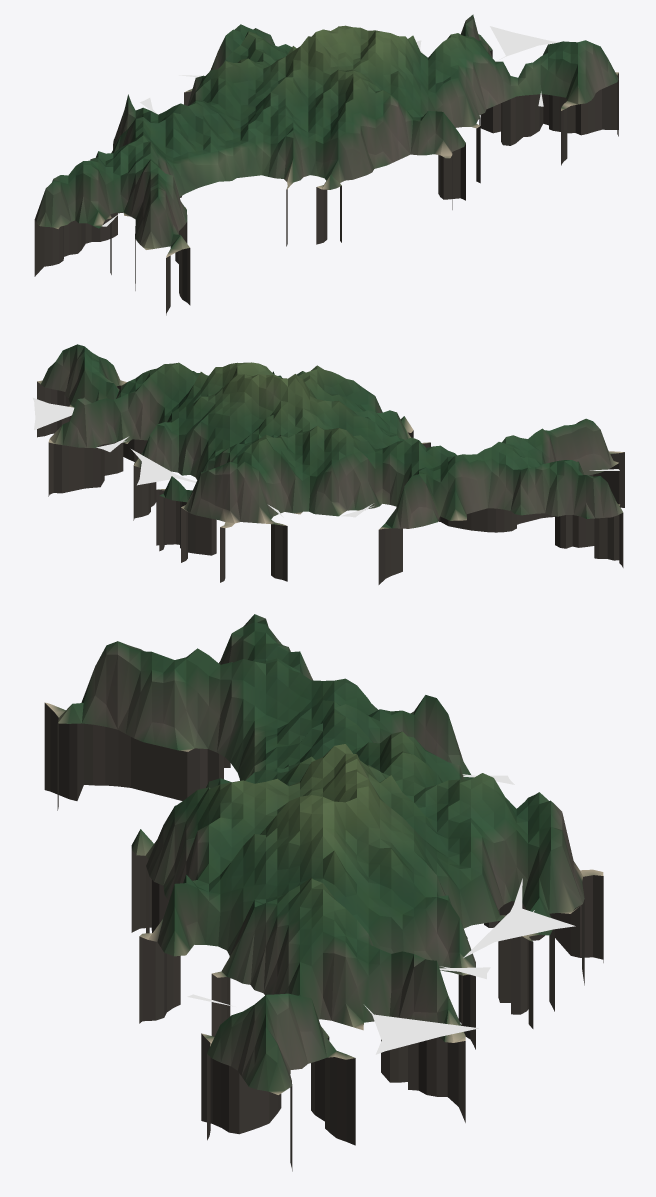
File: landmark-ilha-grande-balanced.v1.glb
3 views of the same model, one above another, from view 1: azimuth 30°, elevation 25°; view 2: azimuth 150°, elevation 25°; view 3: azimuth 270°, elevation 25° (orthographic). The views are drawn at different scales.
Parts seen in each view (by area): view 1: island, surf; view 2: island, surf; view 3: island, surf.
Boxes of the visible parts, x1,y1,x2,y2 form: island: [34, 14, 618, 315]; surf: [102, 26, 558, 226]; island: [37, 344, 624, 584]; surf: [33, 398, 619, 517]; island: [44, 614, 603, 1171]; surf: [187, 774, 575, 1054].
Bounding box in the file's own units: 29.8 × 6.69 × 16.88.
